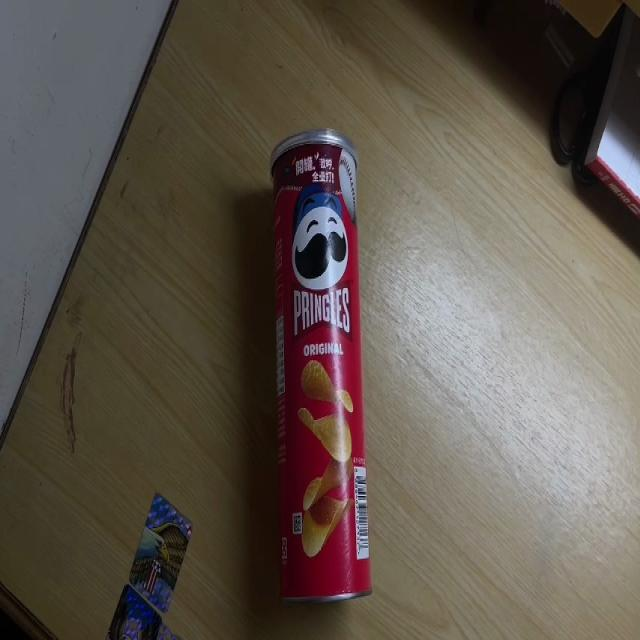Pringles: (268, 128, 374, 605)
